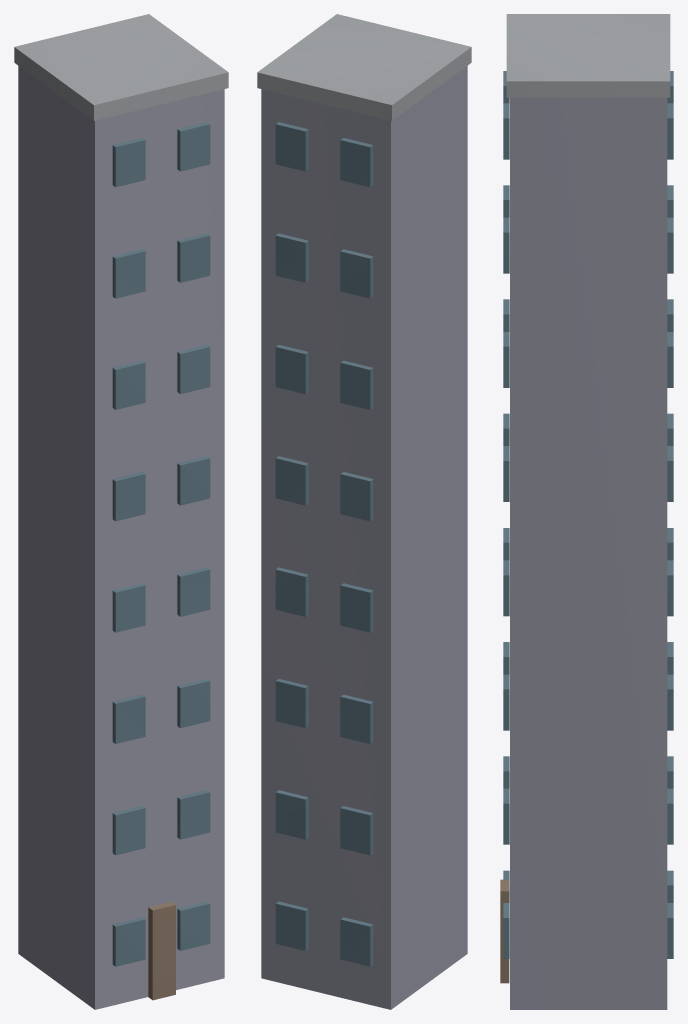
Rendered from lighthouse-00.glb.
The picture shows the model from 3 angles, left to right: view 1: azimuth 30°, elevation 25°; view 2: azimuth 150°, elevation 25°; view 3: azimuth 270°, elevation 25°; orthographic projection. The views are drawn at different scales.
Visible parts, largest first — view 1: world; view 2: world; view 3: world.
Part boxes in pixels (<box>): world: <box>14,14,228,1009</box>; world: <box>257,14,471,1009</box>; world: <box>500,14,673,1009</box>.
Bounding box in the file's own units: 0.628 × 4.04 × 0.6817.
